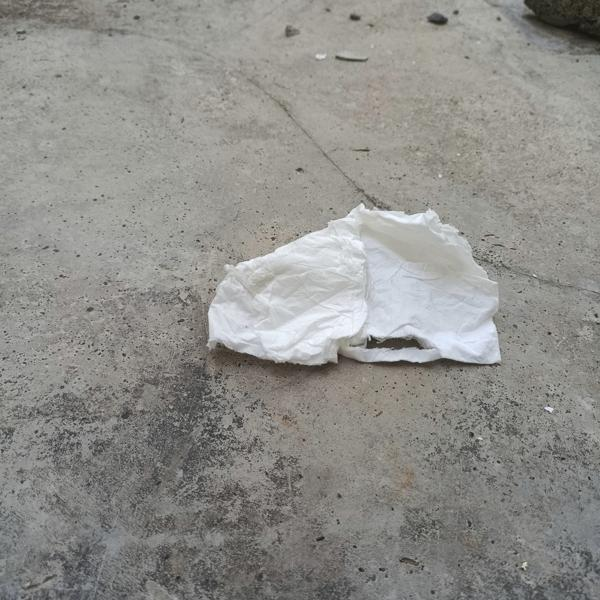Organik: (187, 197, 514, 403)
